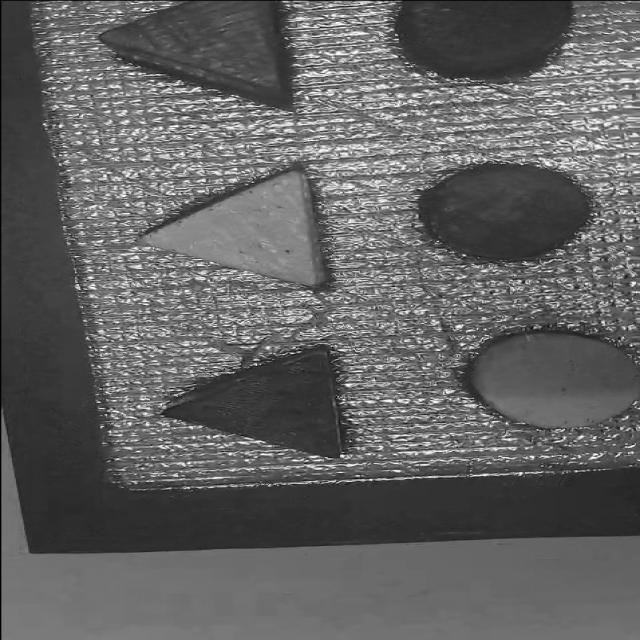btriangle: (154, 344, 382, 470)
rcircle: (397, 153, 623, 274)
rtriangle: (48, 0, 337, 102)
ycircle: (444, 320, 640, 432)
ytriangle: (121, 151, 378, 302)
